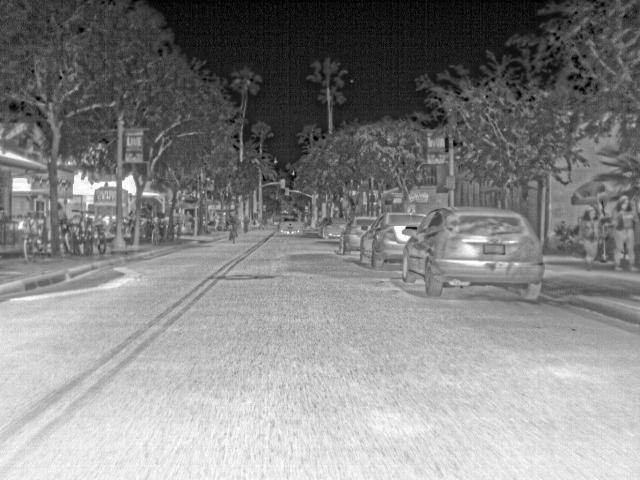car: (401, 206, 544, 302), (359, 211, 427, 269), (338, 216, 378, 255), (317, 216, 349, 239), (277, 215, 305, 235), (271, 215, 281, 226)
person: (608, 194, 639, 272), (577, 207, 606, 272), (182, 209, 193, 233), (227, 208, 239, 229), (172, 211, 180, 236), (220, 209, 226, 229), (243, 214, 249, 232), (213, 210, 219, 227)
